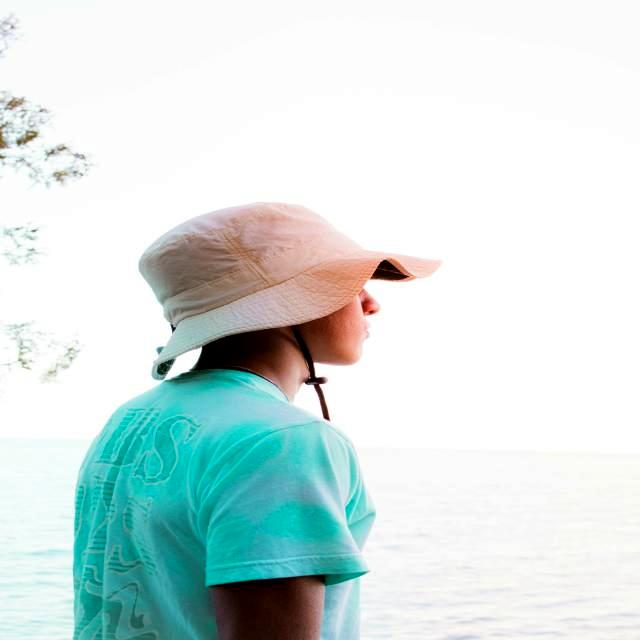no_hard_hat: (139, 203, 441, 380)
person: (73, 203, 440, 640)
